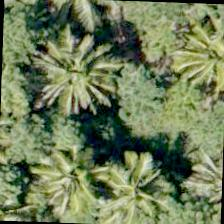Kelapa_Sawit: (21, 28, 114, 121), (25, 131, 119, 223), (86, 144, 181, 223), (173, 5, 223, 99)
